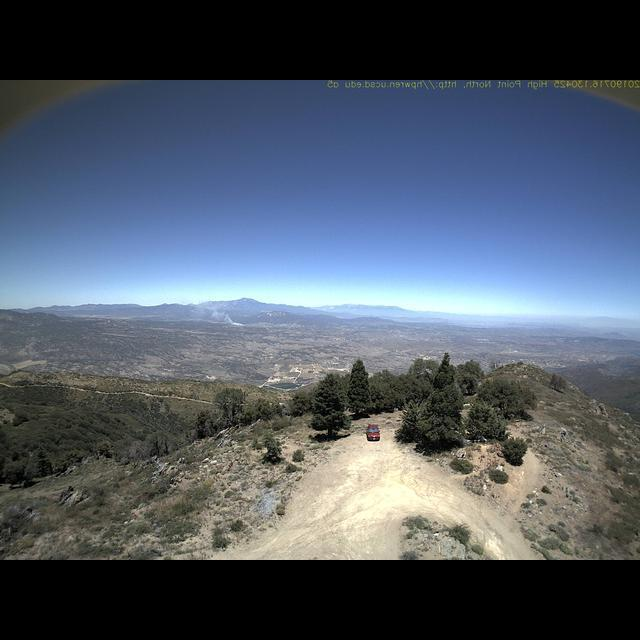Smoke: (174, 298, 248, 325)
